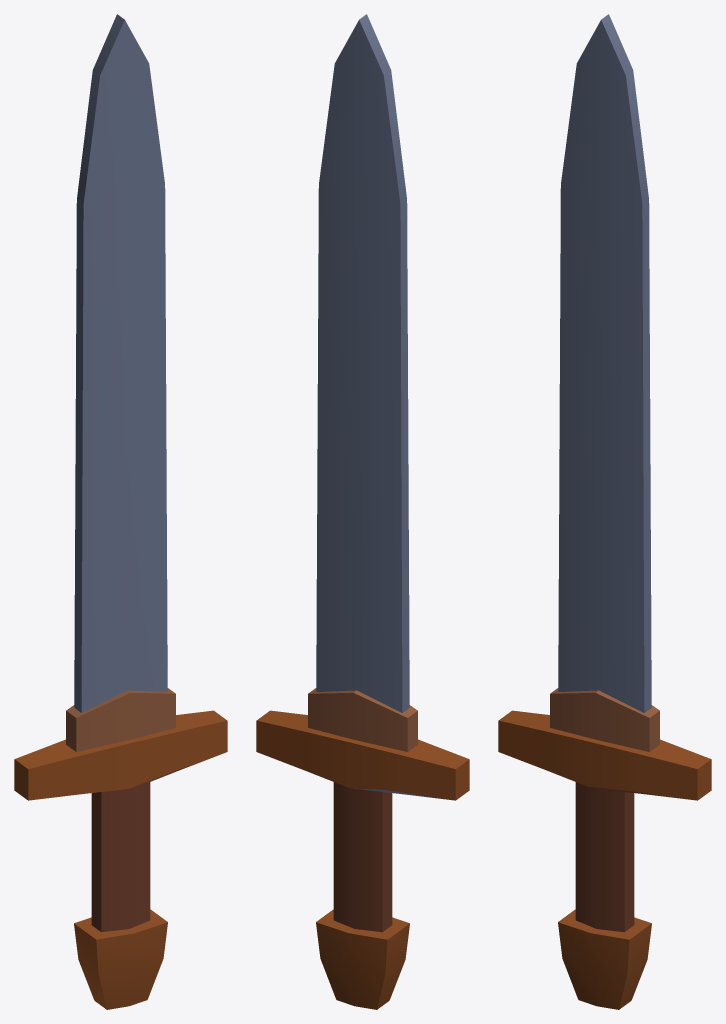
Rendered from BroadSword.fbx.
3 renders of one model, left to right at view 1: azimuth 30°, elevation 25°; view 2: azimuth 150°, elevation 25°; view 3: azimuth 330°, elevation 25°, orthographic.
Visible parts, largest first — view 1: BroadSword; view 2: BroadSword; view 3: BroadSword.
Boxes of the visible parts, bbox=[...] form: BroadSword: bbox=[14, 14, 227, 1009]; BroadSword: bbox=[256, 14, 469, 1009]; BroadSword: bbox=[498, 14, 711, 1009].
Size of the model in its own units: 42.62 by 201 by 10.59.
